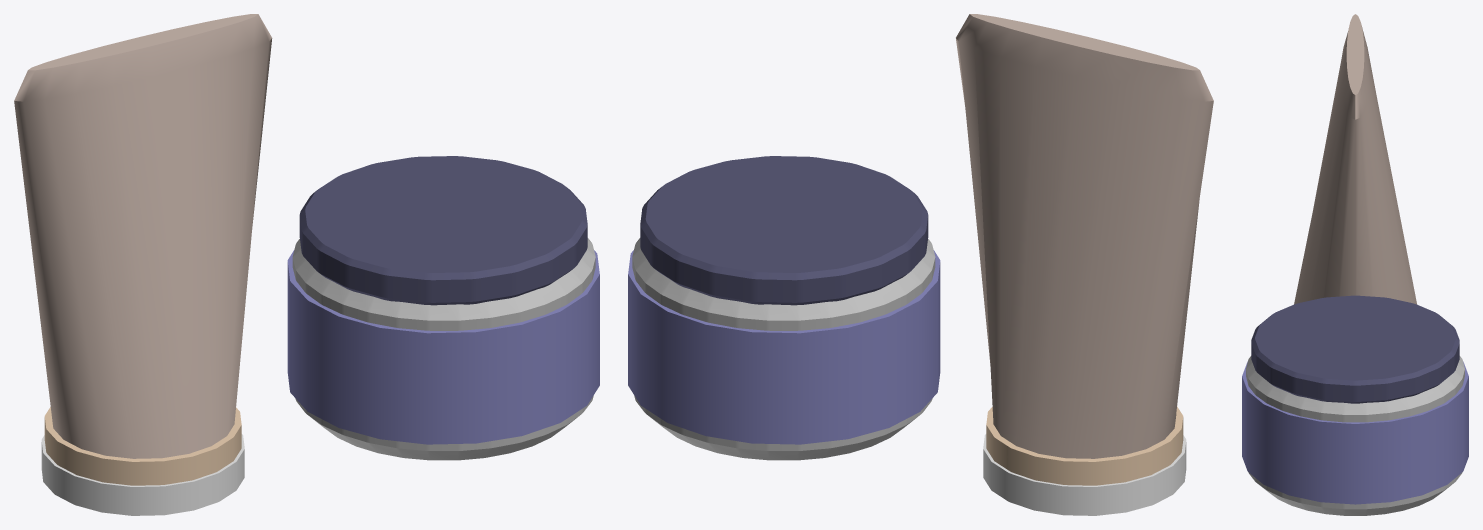
The model's file is colored creams for bedroom.fbx.
3 views of the same model, side by side, from view 1: azimuth 30°, elevation 25°; view 2: azimuth 150°, elevation 25°; view 3: azimuth 270°, elevation 25° (orthographic). The views are drawn at different scales.
Parts seen in each view (by area): view 1: polySurface4, polySurface5, polySurface6, polySurface1, polySurface3, polySurface2; view 2: polySurface4, polySurface5, polySurface6, polySurface1, polySurface3, polySurface2; view 3: polySurface5, polySurface4, polySurface6, polySurface1.
Part boxes in pixels (x1,y1,x2,y2): polySurface4: (14, 14, 272, 458); polySurface5: (287, 250, 599, 444); polySurface6: (299, 156, 587, 305); polySurface1: (292, 238, 595, 460); polySurface3: (41, 434, 244, 515); polySurface2: (44, 407, 241, 485); polySurface4: (956, 14, 1213, 458); polySurface5: (628, 250, 940, 444); polySurface6: (640, 156, 928, 305); polySurface1: (632, 238, 935, 460); polySurface3: (983, 434, 1186, 515); polySurface2: (986, 406, 1183, 485); polySurface5: (1242, 361, 1468, 504); polySurface4: (1294, 14, 1416, 304); polySurface6: (1251, 295, 1459, 403); polySurface1: (1246, 356, 1464, 515).
Size of the model in its own units: 0.2977 by 0.2195 by 0.1431.
